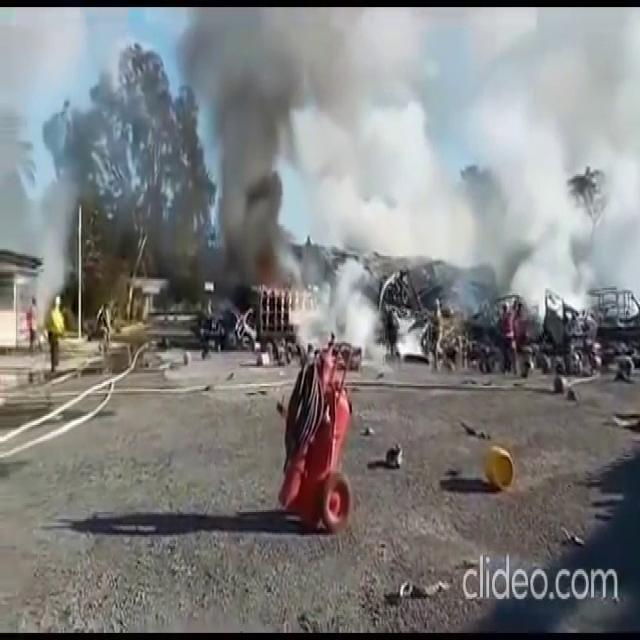Smoke: (7, 12, 640, 354)
